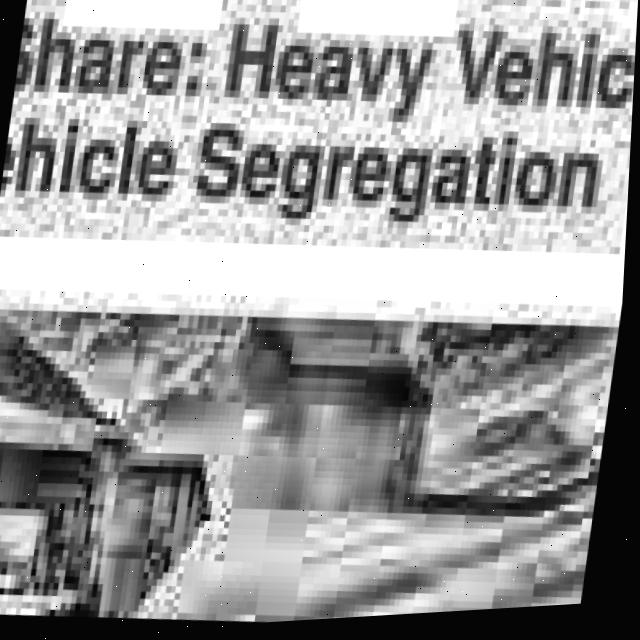dump_truck: (0, 295, 256, 634), (193, 299, 483, 558)
